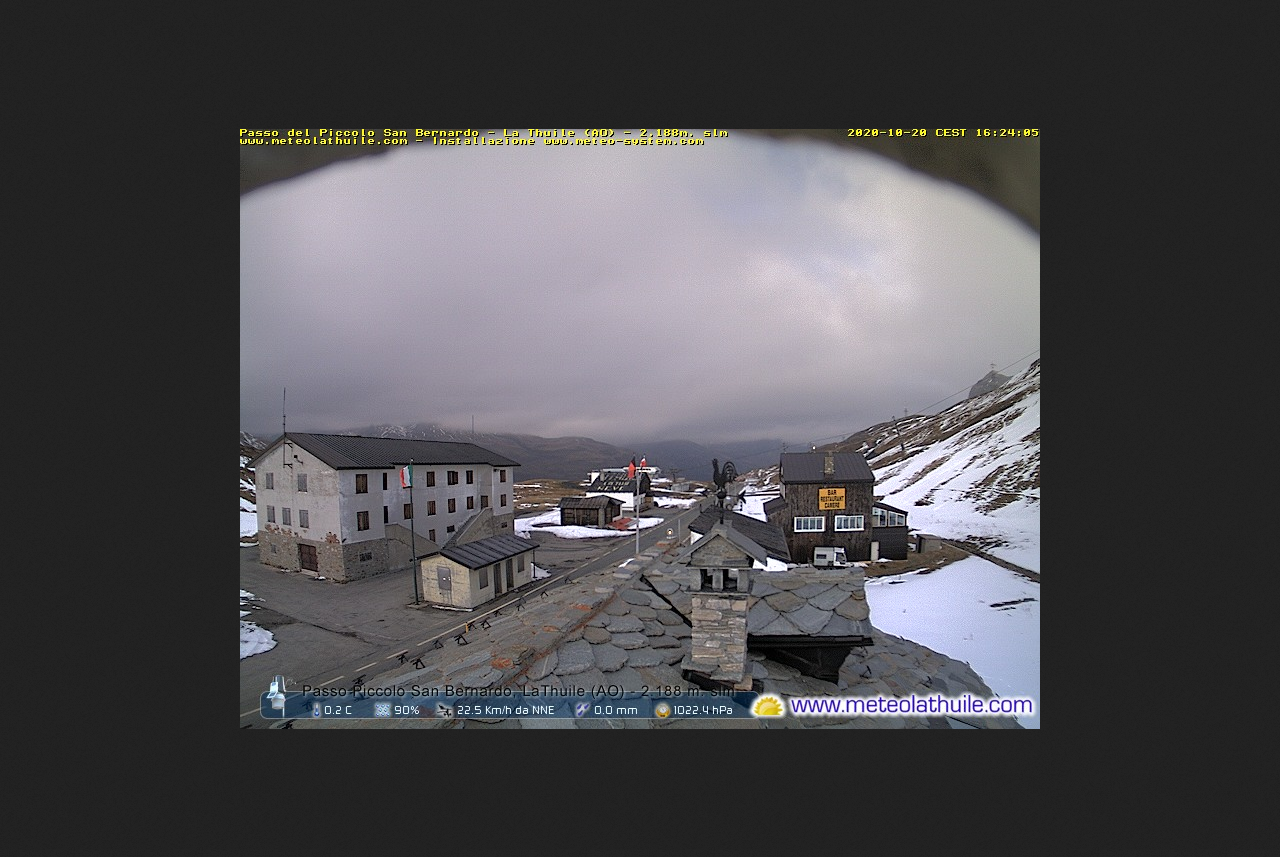maybe: (623, 458, 636, 482), (638, 457, 647, 475)
yes: (395, 463, 416, 491)
